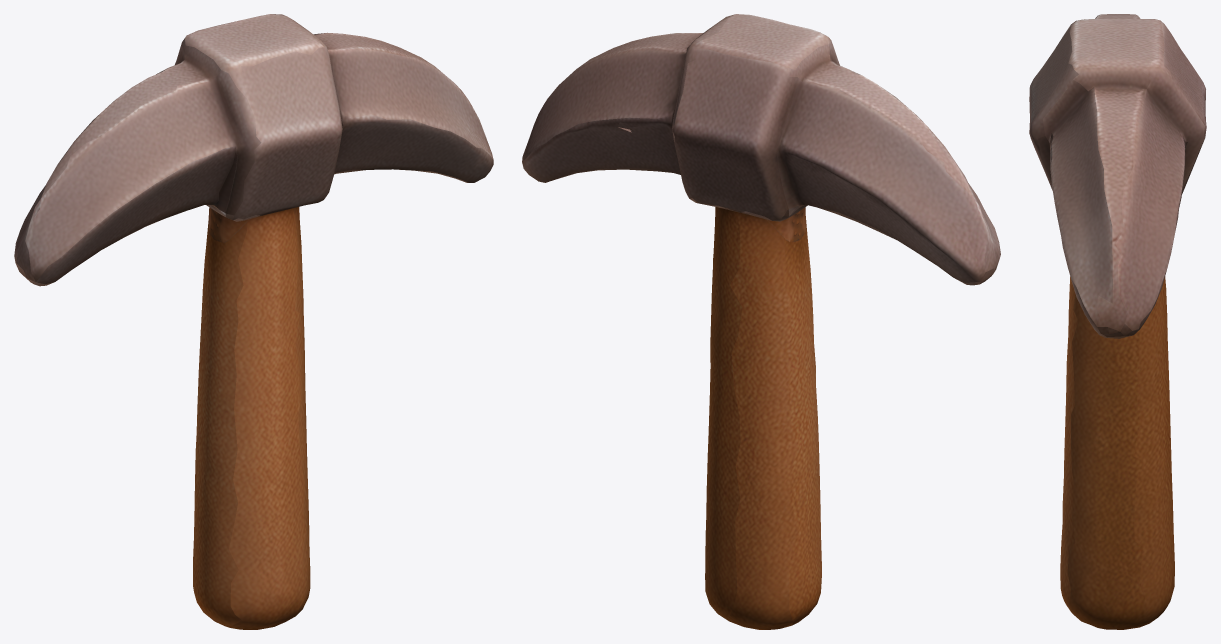
File: mining-pickaxe.glb
3 renders of one model, left to right at view 1: azimuth 30°, elevation 25°; view 2: azimuth 150°, elevation 25°; view 3: azimuth 270°, elevation 25°, orthographic.
Parts seen in each view (by area): view 1: world; view 2: world; view 3: world.
Boxes of the visible parts, x1,y1,x2,y2 form: world: (14,14,493,629); world: (522,14,1000,629); world: (1029,14,1206,629).
Bounding box in the file's own units: 0.8331 × 0.9995 × 0.2766.
1 material, 1 textured.
